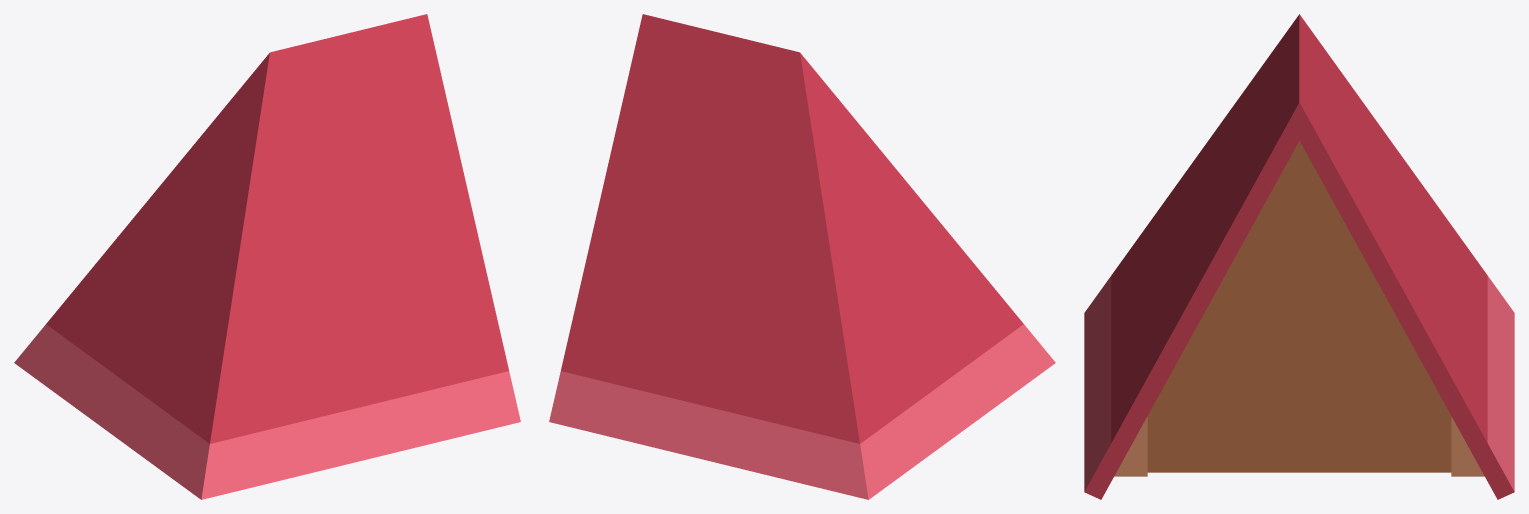
File: roofHighGableEnd.obj
3 views of the same model, side by side, from view 1: azimuth 30°, elevation 25°; view 2: azimuth 150°, elevation 25°; view 3: azimuth 270°, elevation 25° (orthographic). The views are drawn at different scales.
Parts seen in each view (by area): view 1: roofHighGableEnd; view 2: roofHighGableEnd; view 3: roofHighGableEnd.
Boxes of the visible parts, bbox=[...] form: roofHighGableEnd: bbox=[14, 14, 520, 499]; roofHighGableEnd: bbox=[549, 14, 1055, 499]; roofHighGableEnd: bbox=[1084, 14, 1514, 499].
Size of the model in its own units: 1.12 by 1.16 by 1.13.
